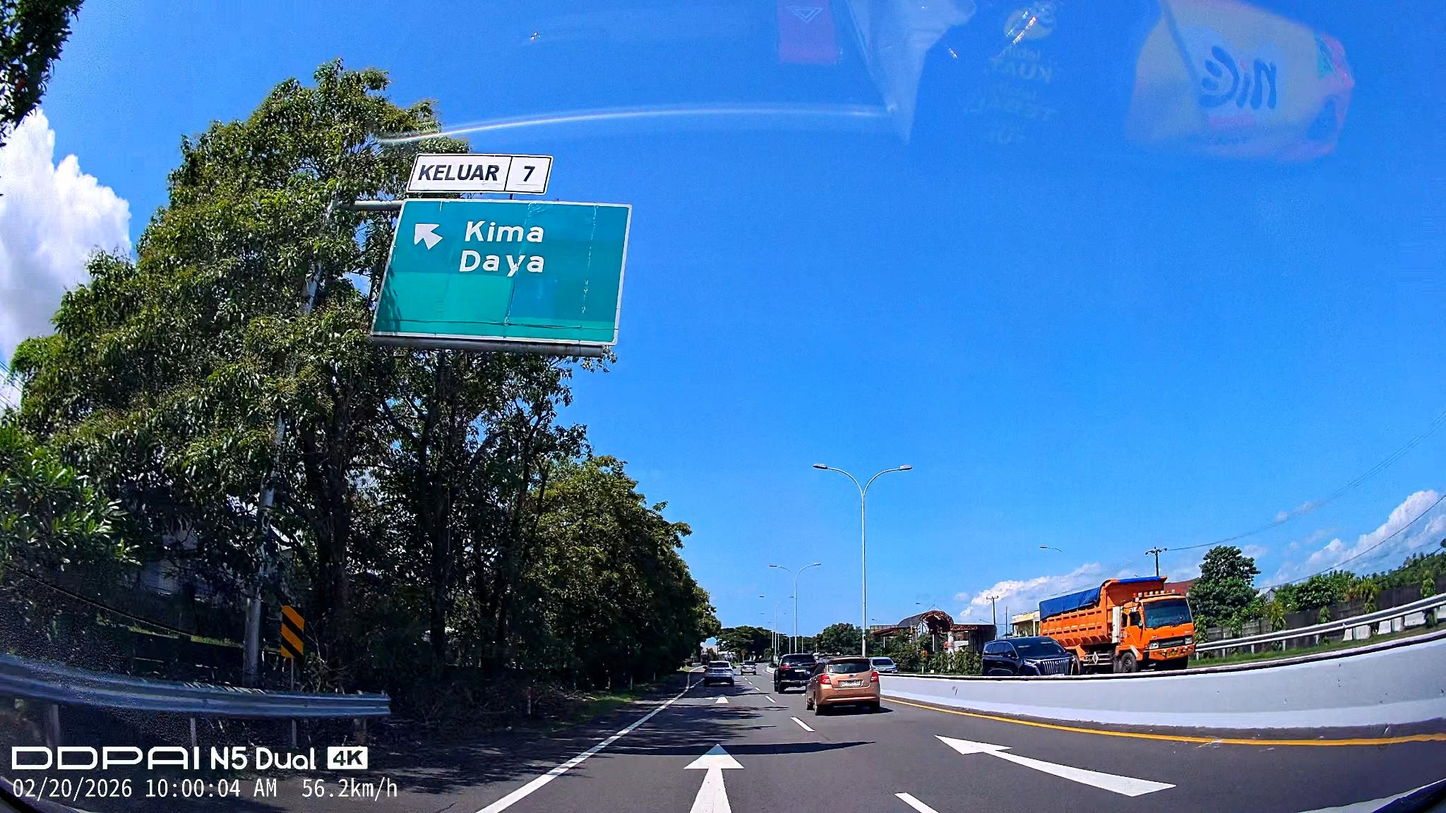rambu_teks: (368, 198, 633, 347)
